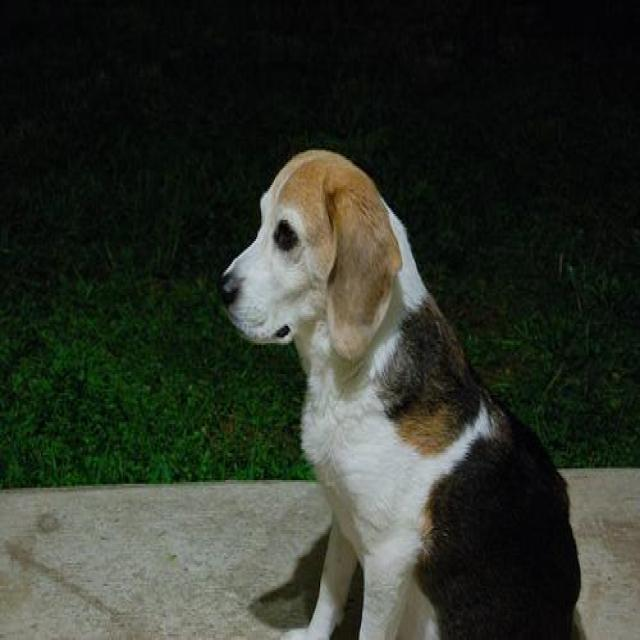beagle: (209, 143, 586, 634)
